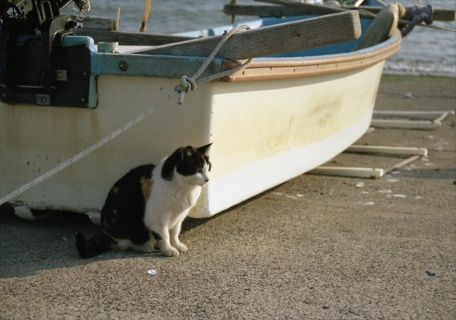Cat: (74, 142, 213, 259)
